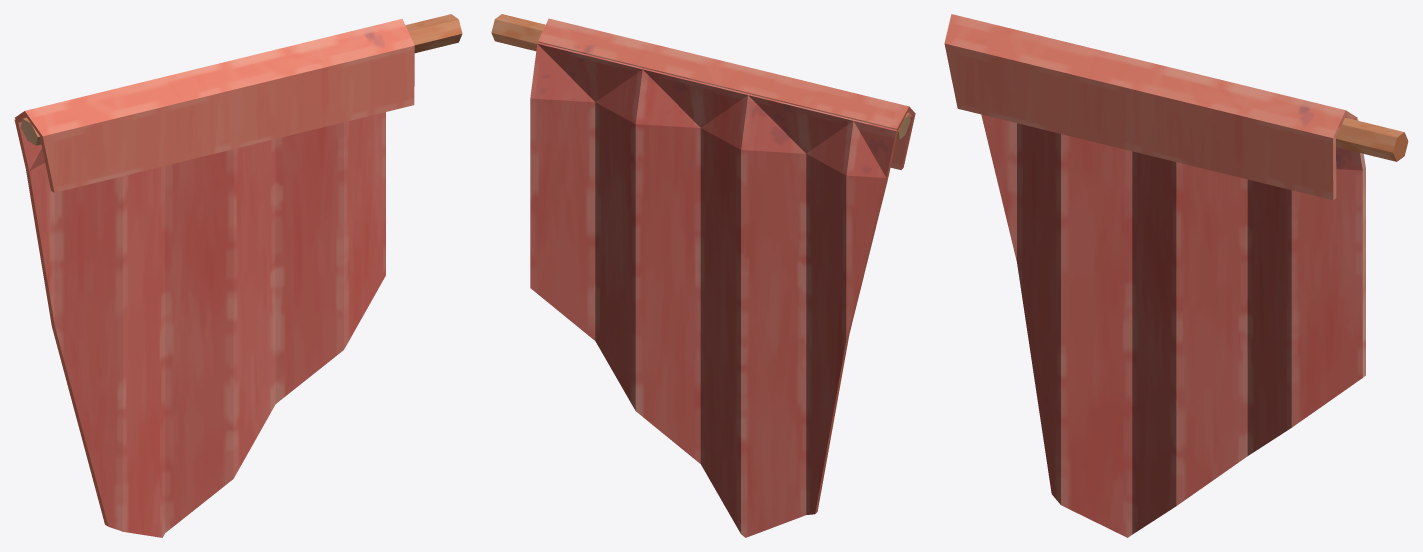
File: rack_red_s02.fbx
3 views of the same model, side by side, from view 1: azimuth 30°, elevation 25°; view 2: azimuth 150°, elevation 25°; view 3: azimuth 330°, elevation 25° (orthographic). The views are drawn at different scales.
Parts seen in each view (by area): view 1: rack_red_s02; view 2: rack_red_s02; view 3: rack_red_s02.
Part boxes in pixels (box(x1,y1,x2,y2)): rack_red_s02: box(14, 14, 462, 537); rack_red_s02: box(491, 14, 915, 537); rack_red_s02: box(944, 14, 1408, 537).
Bounding box in the file's own units: 5.72 × 6.04 × 0.7289.
